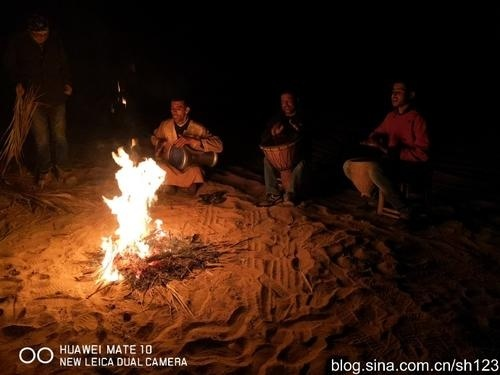fire: (97, 141, 169, 281)
